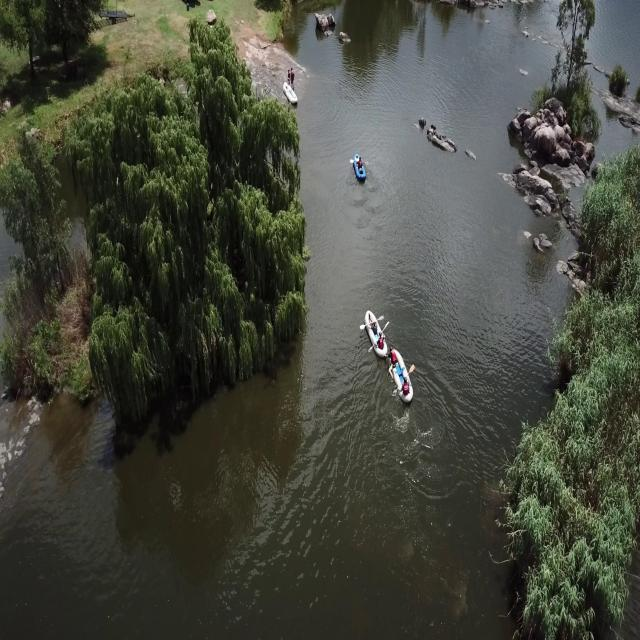kayak: (389, 346, 414, 404), (360, 310, 389, 352), (352, 156, 368, 184)
